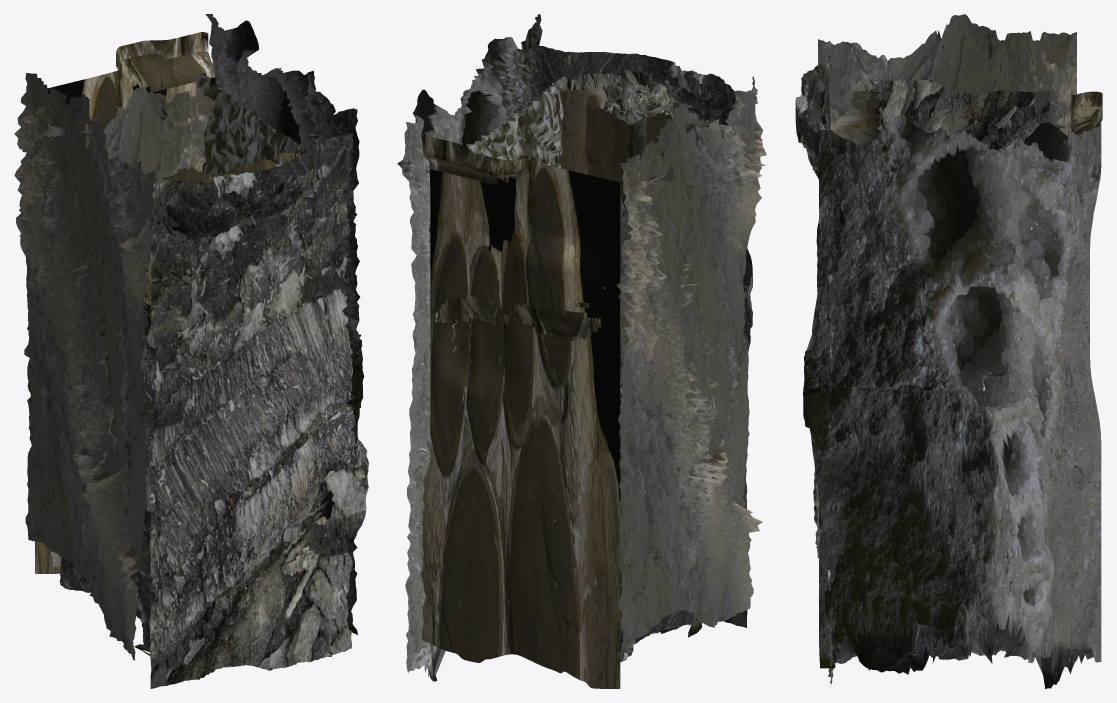
File: allWalls 1.fbx
3 renders of one model, left to right at view 1: azimuth 30°, elevation 25°; view 2: azimuth 150°, elevation 25°; view 3: azimuth 270°, elevation 25°, orthographic. The views are drawn at different scales.
Visible parts, largest first — view 1: Cube.001, Cube.008, Cube.011, Cube.009, Cube.007, Cube.006, Cube.004, Cube.005; view 2: Cube.009, Cube.008, Cube.011, Cube.001, Cube.005, Cube.006, Cube.004, Cube.007; view 3: Cube.011, Cube.008, Cube.004, Cube.001, Cube.005, Cube.009.
Boxes of the visible parts, x1,y1,x2,y2 form: Cube.001: (149,133,368,688); Cube.008: (14,73,155,660); Cube.011: (205,14,364,634); Cube.009: (35,32,215,573); Cube.007: (39,83,219,567); Cube.006: (195,73,308,177); Cube.004: (59,157,156,649); Cube.005: (134,149,300,655); Cube.009: (421,134,620,688); Cube.008: (614,76,766,657); Cube.011: (397,14,542,681); Cube.001: (534,44,752,627); Cube.005: (550,85,709,637); Cube.006: (452,77,568,364); Cube.004: (620,119,719,661); Cube.007: (534,214,633,597); Cube.011: (803,115,1101,688); Cube.008: (818,14,1076,135); Cube.004: (851,79,1049,150); Cube.001: (795,55,833,684); Cube.005: (830,90,882,147); Cube.009: (1071,83,1102,134).
Size of the model in its own units: 305 by 684 by 325.
